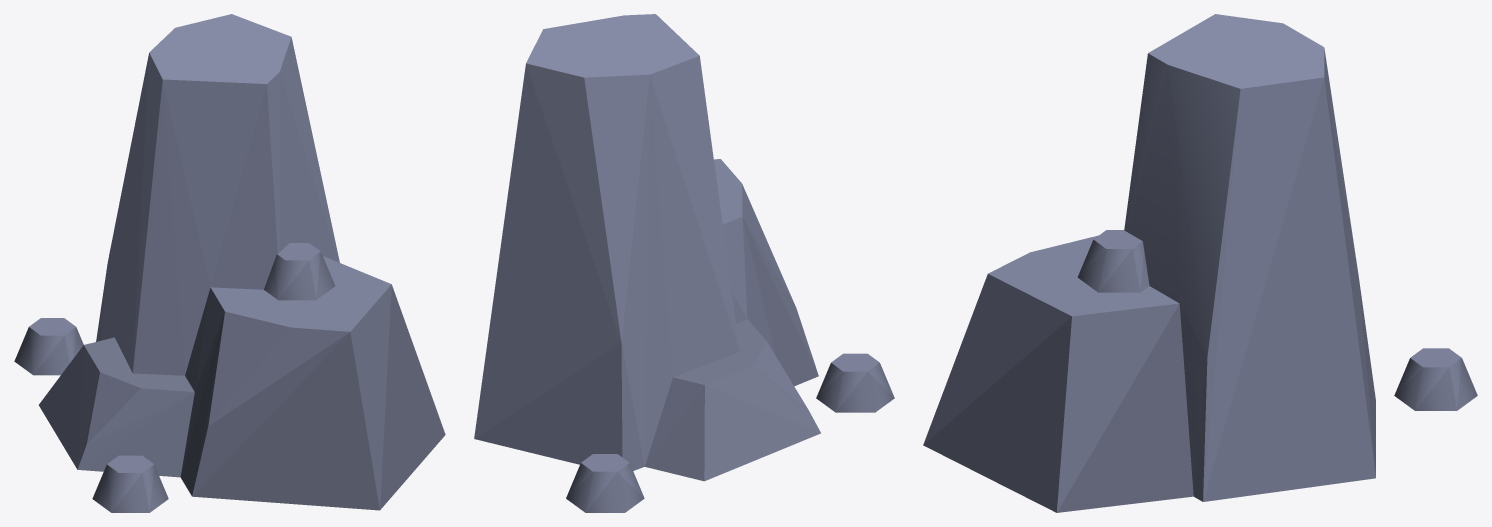
Rendered from fantasytown_rock_small.glb.
3 renders of one model, left to right at view 1: azimuth 30°, elevation 25°; view 2: azimuth 150°, elevation 25°; view 3: azimuth 270°, elevation 25°, orthographic. The views are drawn at different scales.
Visible parts, largest first — view 1: fantasytown_rock_small; view 2: fantasytown_rock_small; view 3: fantasytown_rock_small.
Boxes of the visible parts, x1,y1,x2,y2 form: fantasytown_rock_small: [14, 14, 445, 512]; fantasytown_rock_small: [474, 14, 894, 512]; fantasytown_rock_small: [923, 14, 1477, 512].
Bounding box in the file's own units: 0.9983 × 1.02 × 1.33.
